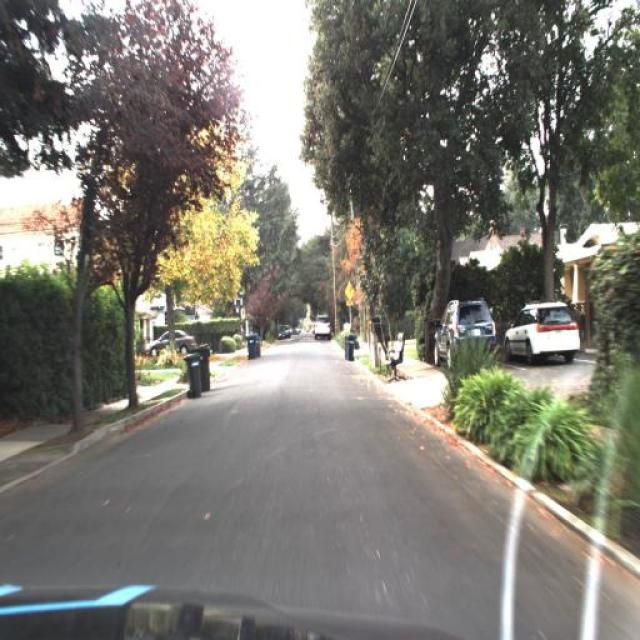car: (428, 294, 501, 368), (506, 296, 586, 362), (142, 321, 200, 363), (310, 304, 336, 342), (312, 314, 333, 344), (276, 324, 296, 344)
